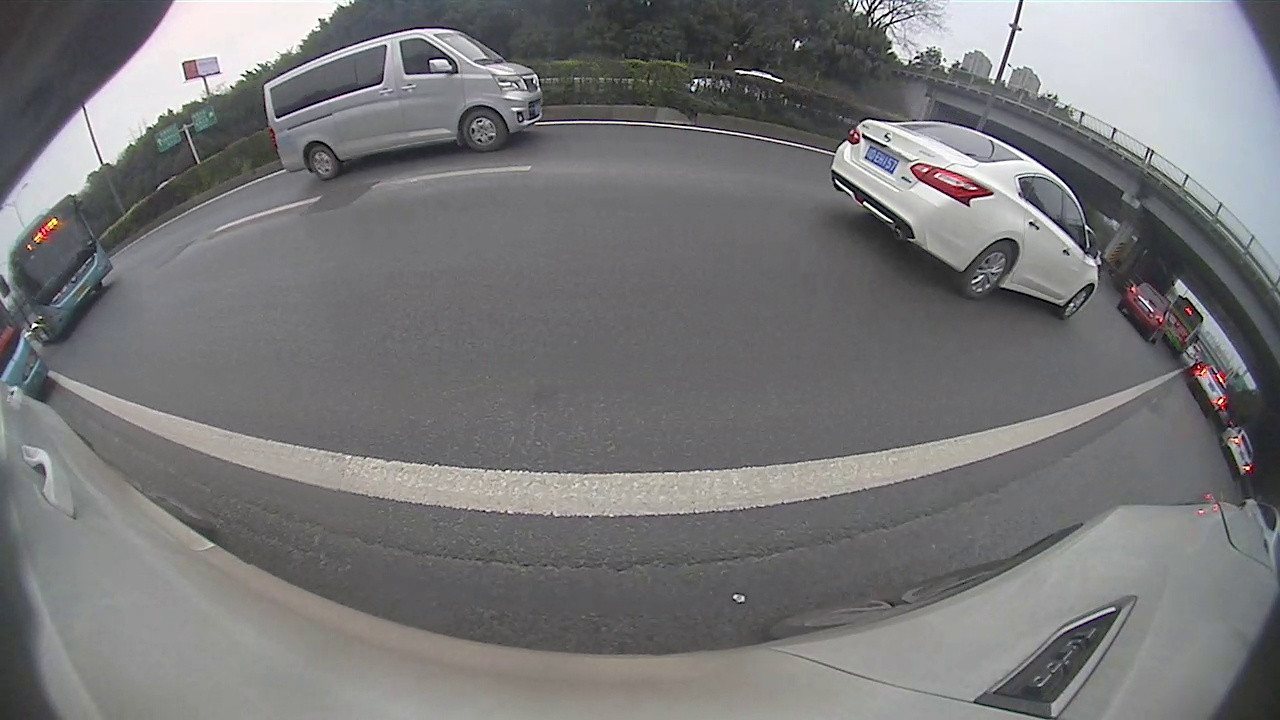bus: (1, 196, 113, 346), (1165, 293, 1205, 357)
car: (829, 117, 1100, 321), (262, 26, 543, 183), (1119, 281, 1171, 343), (1188, 363, 1229, 418)
front: (460, 107, 510, 155), (1062, 283, 1094, 320)
rear: (961, 242, 1018, 301), (308, 144, 343, 182)
